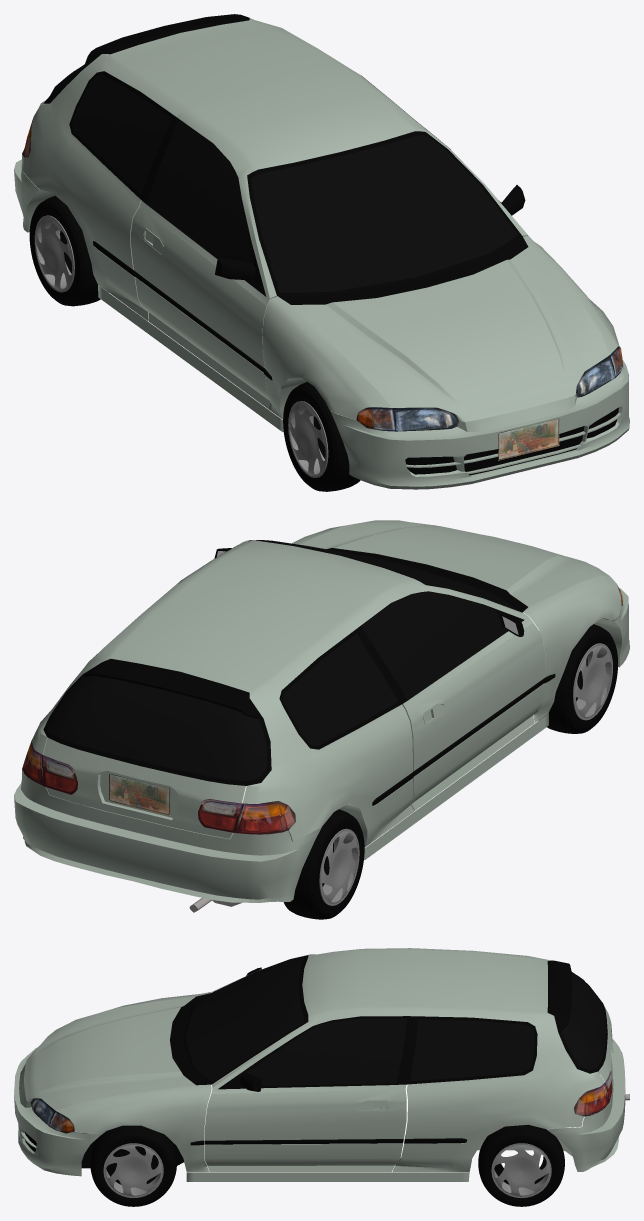
Rendered from minhong.glb.
3 renders of one model, top to bottom at view 1: azimuth 30°, elevation 25°; view 2: azimuth 150°, elevation 25°; view 3: azimuth 270°, elevation 25°, orthographic. The views are drawn at different scales.
Visible parts, largest first — view 1: mainbody, frontbumper.001, mainbody.001, frontbumper, front fender, mainbody.002, mainbody.003, Circle.003, Circle.002, mainbody.005, frontbumper.005, sideskirt (+7 smaller); view 2: mainbody, rear bumper, trunk.001, frontbumper.001, mainbody.002, mainbody.003, trunk, front fender, Circle.003, Circle.002, mainbody.004, spoiler (+6 smaller); view 3: mainbody, frontbumper.001, mainbody.001, mainbody.002, mainbody.003, front fender, Circle.001, Circle, frontbumper, rear bumper, trunk.001, sideskirt (+9 smaller).
Boxes of the visible parts, x1=… form: mainbody: x1=22, y1=18, x2=528, y2=408; frontbumper.001: x1=291, y1=247, x2=609, y2=421; mainbody.001: x1=247, y1=131, x2=521, y2=295; frontbumper: x1=330, y1=359, x2=629, y2=489; front fender: x1=262, y1=236, x2=620, y2=419; mainbody.002: x1=146, y1=119, x2=266, y2=296; mainbody.003: x1=69, y1=71, x2=176, y2=199; Circle.003: x1=29, y1=195, x2=100, y2=306; Circle.002: x1=283, y1=382, x2=360, y2=491; mainbody.005: x1=277, y1=236, x2=528, y2=304; frontbumper.005: x1=405, y1=407, x2=618, y2=475; sideskirt: x1=98, y1=285, x2=283, y2=432; mainbody: x1=31, y1=540, x2=545, y2=847; rear bumper: x1=14, y1=769, x2=321, y2=902; trunk.001: x1=43, y1=674, x2=271, y2=785; frontbumper.001: x1=300, y1=520, x2=609, y2=606; mainbody.002: x1=361, y1=591, x2=524, y2=700; mainbody.003: x1=93, y1=629, x2=402, y2=749; trunk: x1=43, y1=738, x2=245, y2=838; front fender: x1=292, y1=526, x2=621, y2=723; Circle.003: x1=283, y1=809, x2=364, y2=919; Circle.002: x1=536, y1=624, x2=617, y2=733; mainbody.004: x1=22, y1=741, x2=295, y2=834; spoiler: x1=83, y1=658, x2=263, y2=718; mainbody: x1=204, y1=948, x2=604, y2=1172; frontbumper.001: x1=24, y1=996, x2=195, y2=1110; mainbody.001: x1=182, y1=955, x2=308, y2=1084; mainbody.002: x1=248, y1=1016, x2=409, y2=1086; mainbody.003: x1=406, y1=1016, x2=537, y2=1084; front fender: x1=56, y1=992, x2=211, y2=1172; Circle.001: x1=478, y1=1124, x2=564, y2=1206; Circle: x1=90, y1=1125, x2=176, y2=1206; frontbumper: x1=14, y1=1047, x2=100, y2=1176; rear bumper: x1=546, y1=1039, x2=625, y2=1171; trunk.001: x1=558, y1=972, x2=607, y2=1073; sideskirt: x1=186, y1=1172, x2=469, y2=1181.
Size of the model in its own units: 6.93 by 5.06 by 15.61.
11 materials, 2 textured.
